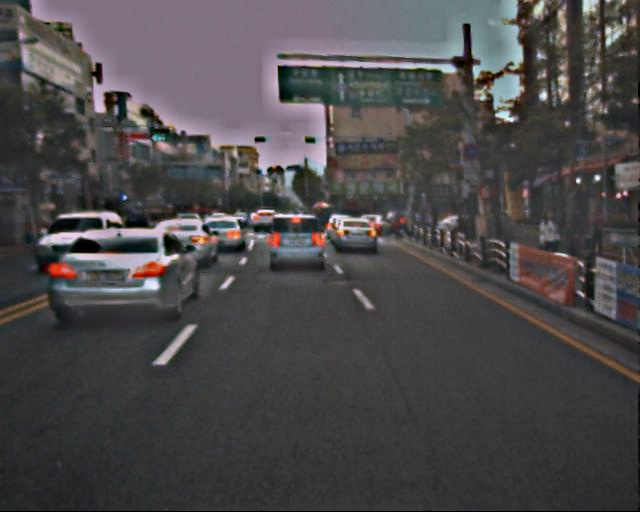person: (534, 211, 562, 279), (586, 206, 608, 259)
